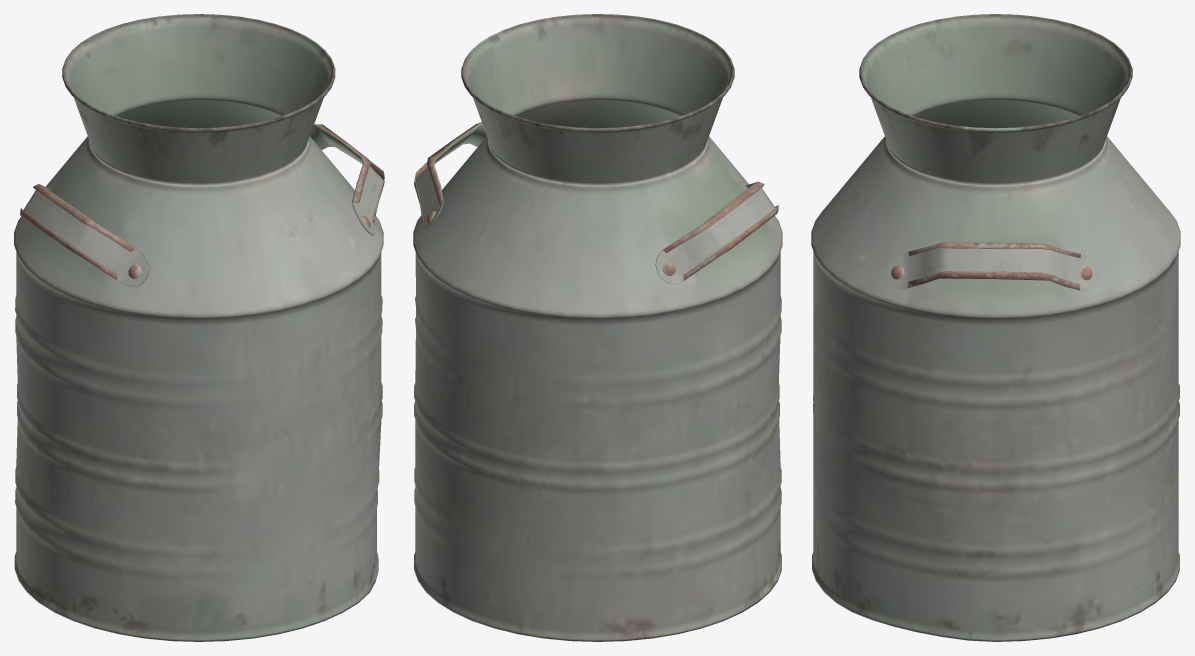
The model's file is metal_jug.glb.
The picture shows the model from 3 angles, left to right: view 1: azimuth 30°, elevation 25°; view 2: azimuth 150°, elevation 25°; view 3: azimuth 270°, elevation 25°; orthographic projection.
Parts seen in each view (by area): view 1: metal_jug; view 2: metal_jug; view 3: metal_jug.
Part boxes in pixels (box(x1,y1,x2,y2)): metal_jug: box(14, 14, 384, 641); metal_jug: box(413, 14, 782, 641); metal_jug: box(811, 14, 1180, 641).
Bounding box in the file's own units: 0.1968 × 0.2875 × 0.1955.
Materials: 1 (1 with a texture image).
